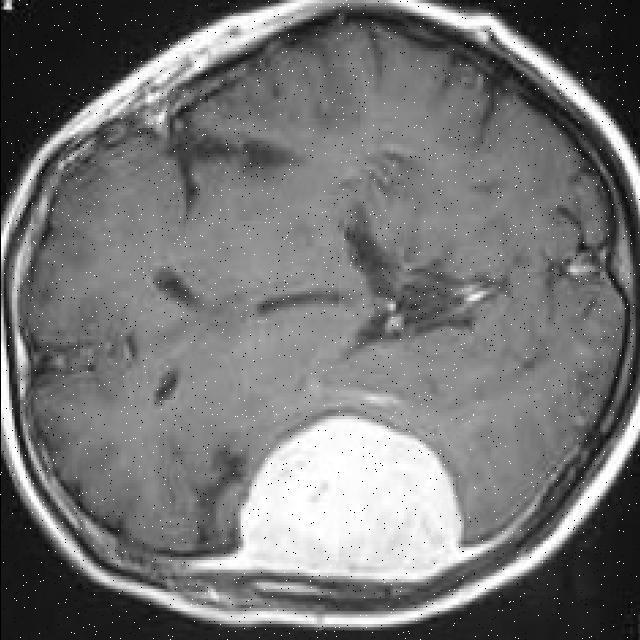Meningioma: (239, 417, 460, 578)
